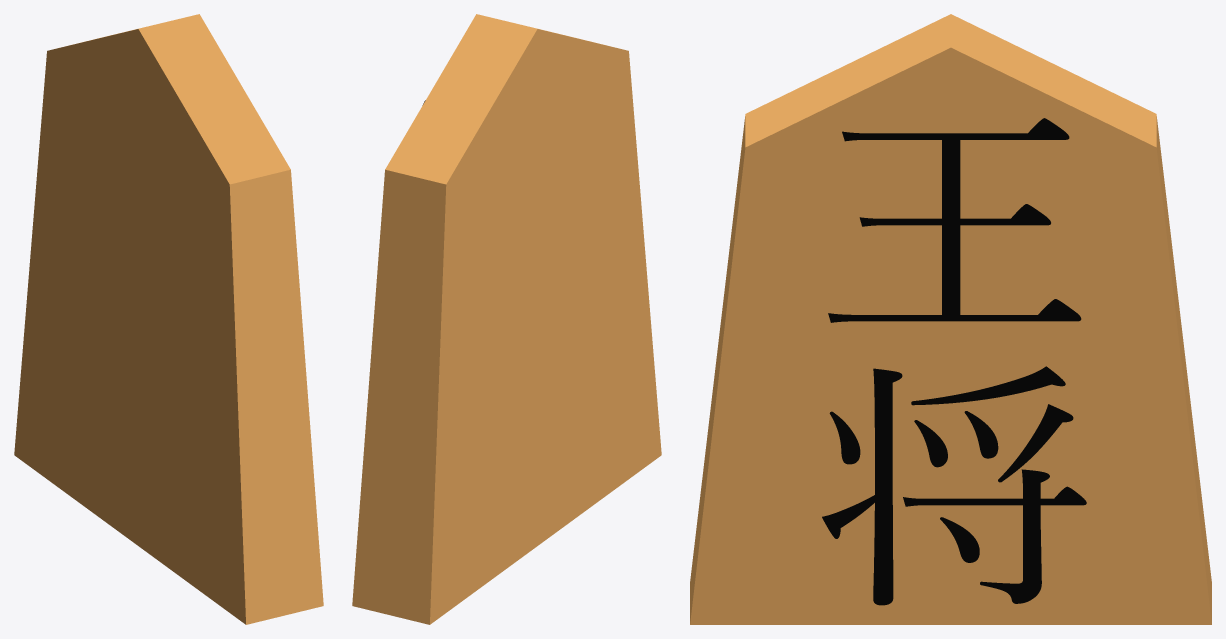
File: JapaneseChessKing.fbx
3 renders of one model, left to right at view 1: azimuth 30°, elevation 25°; view 2: azimuth 150°, elevation 25°; view 3: azimuth 270°, elevation 25°, orthographic. The views are drawn at different scales.
Visible parts, largest first — view 1: Cube; view 2: Cube; view 3: Cube, Text.
Part boxes in pixels (left/top/right/bottom): Cube: left=14, top=14, right=323, bottom=624; Cube: left=352, top=14, right=661, bottom=624; Cube: left=690, top=14, right=1211, bottom=624; Text: left=822, top=118, right=1086, bottom=605.
Size of the model in its own units: 39.26 by 242 by 200.
2 materials, 2 textured.
